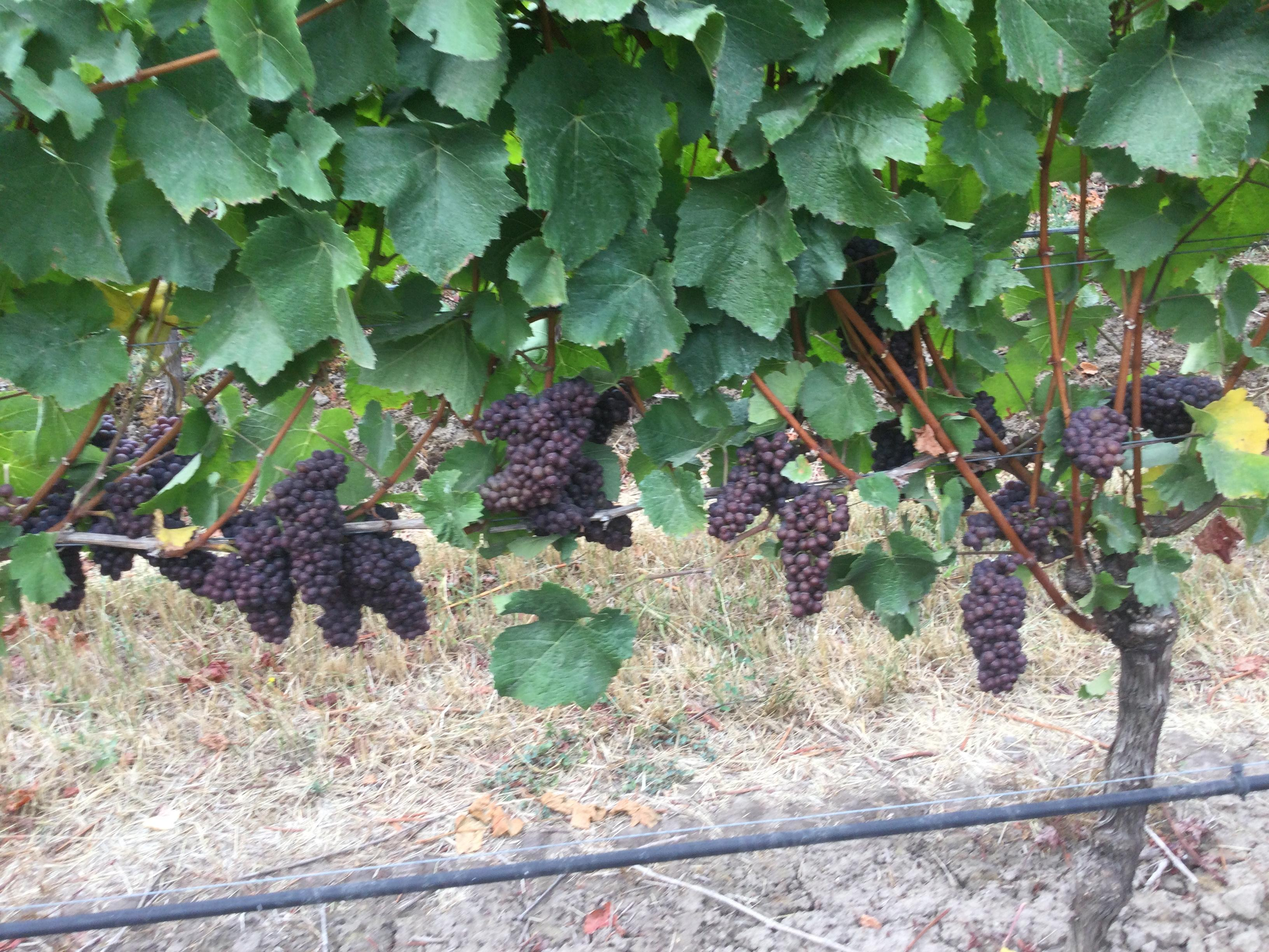leaf: (505, 50, 669, 267), (1078, 0, 1268, 175), (342, 122, 520, 280), (773, 66, 926, 226), (124, 61, 276, 219), (675, 167, 804, 338), (237, 211, 373, 366), (0, 120, 128, 282), (561, 225, 688, 369), (490, 583, 636, 707), (0, 282, 129, 408), (110, 177, 235, 290), (712, 0, 810, 143), (180, 270, 295, 383), (876, 192, 972, 327), (359, 320, 486, 414), (204, 0, 315, 100), (996, 0, 1110, 93), (301, 0, 396, 109), (397, 32, 509, 120), (940, 100, 1038, 198), (793, 0, 906, 81), (890, 0, 974, 107), (1187, 388, 1268, 498), (675, 315, 791, 391), (1091, 182, 1180, 270), (846, 532, 937, 614), (1190, 163, 1268, 256), (11, 66, 103, 138), (393, 0, 502, 60), (268, 110, 339, 200), (798, 363, 876, 440), (634, 399, 718, 465), (412, 469, 482, 548), (918, 135, 983, 220), (790, 209, 850, 298), (1187, 388, 1268, 452), (638, 467, 706, 536), (471, 283, 532, 358), (9, 532, 71, 604), (506, 236, 568, 306), (1128, 542, 1191, 606), (1152, 453, 1216, 511), (343, 364, 412, 415), (433, 440, 497, 492), (1091, 493, 1142, 552), (643, 0, 716, 41), (967, 258, 1028, 307), (356, 401, 397, 469), (1221, 267, 1259, 335), (763, 361, 811, 410), (937, 477, 965, 544), (550, 0, 634, 20), (855, 473, 899, 510), (786, 0, 829, 37), (0, 564, 21, 619), (680, 289, 699, 301), (301, 0, 321, 10), (1099, 670, 1109, 687), (1098, 573, 1110, 578), (1200, 443, 1204, 451), (1090, 692, 1100, 695), (508, 262, 510, 273), (1095, 580, 1097, 589), (4, 532, 8, 536), (1111, 578, 1114, 583), (1192, 255, 1199, 257), (970, 498, 972, 502), (1082, 687, 1083, 692), (1082, 693, 1083, 696), (785, 139, 787, 140), (781, 424, 782, 425), (191, 315, 191, 315), (1183, 368, 1183, 368), (1085, 686, 1086, 686), (1115, 606, 1117, 606), (481, 117, 482, 117)
